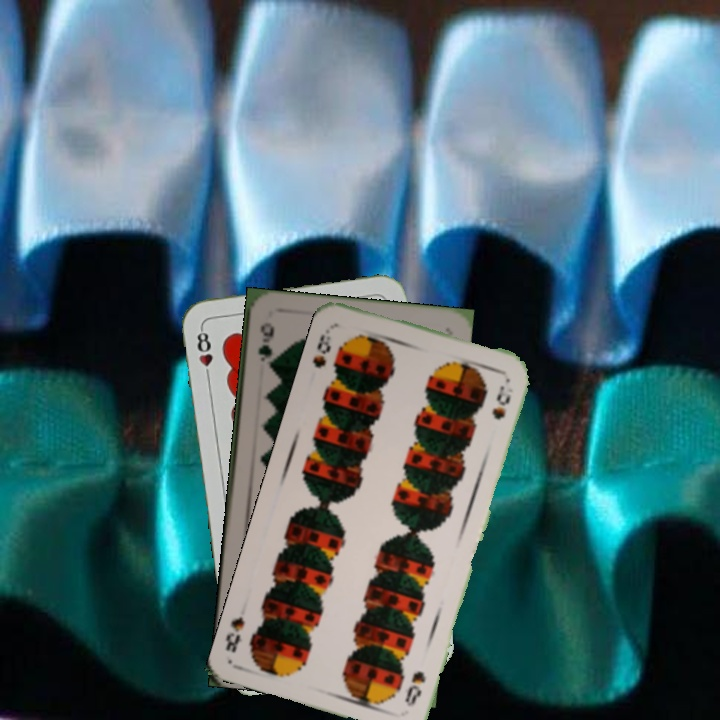G9: (254, 318, 277, 364)
H8: (193, 324, 216, 383)
S8: (308, 321, 343, 371), (401, 667, 428, 709)
